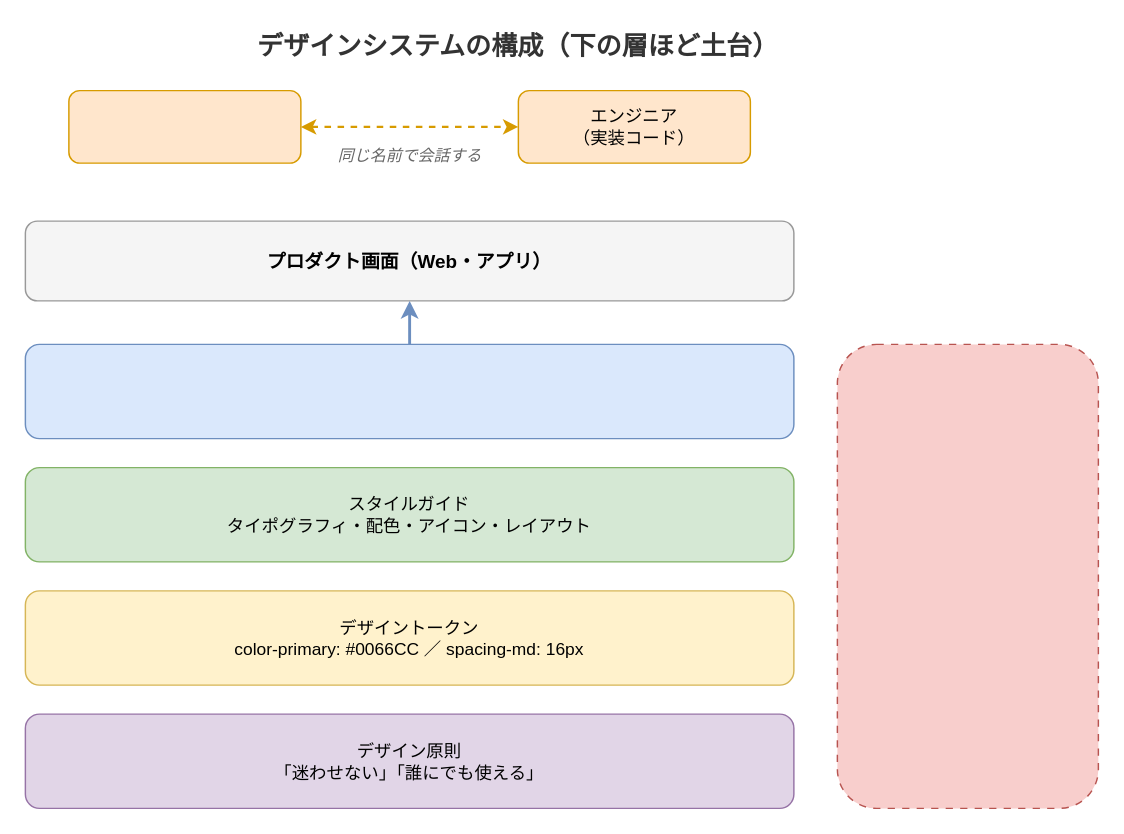
This 1124x834 diagram has some shape labels left out. The shapes that lost their labels are listed below. From the top down, each one's box as (x1, y1, x2, y2) in pixels, then its label:
(67, 89, 301, 163): デザイナー （Figma）
(24, 343, 794, 439): UIコンポーネント ボタン・入力フォーム・モーダル・ナビゲーション
(836, 343, 1098, 808): ドキュメント・ 運用ルール 使い方・NG例 更新・管理フロー （全層にまたがる）
